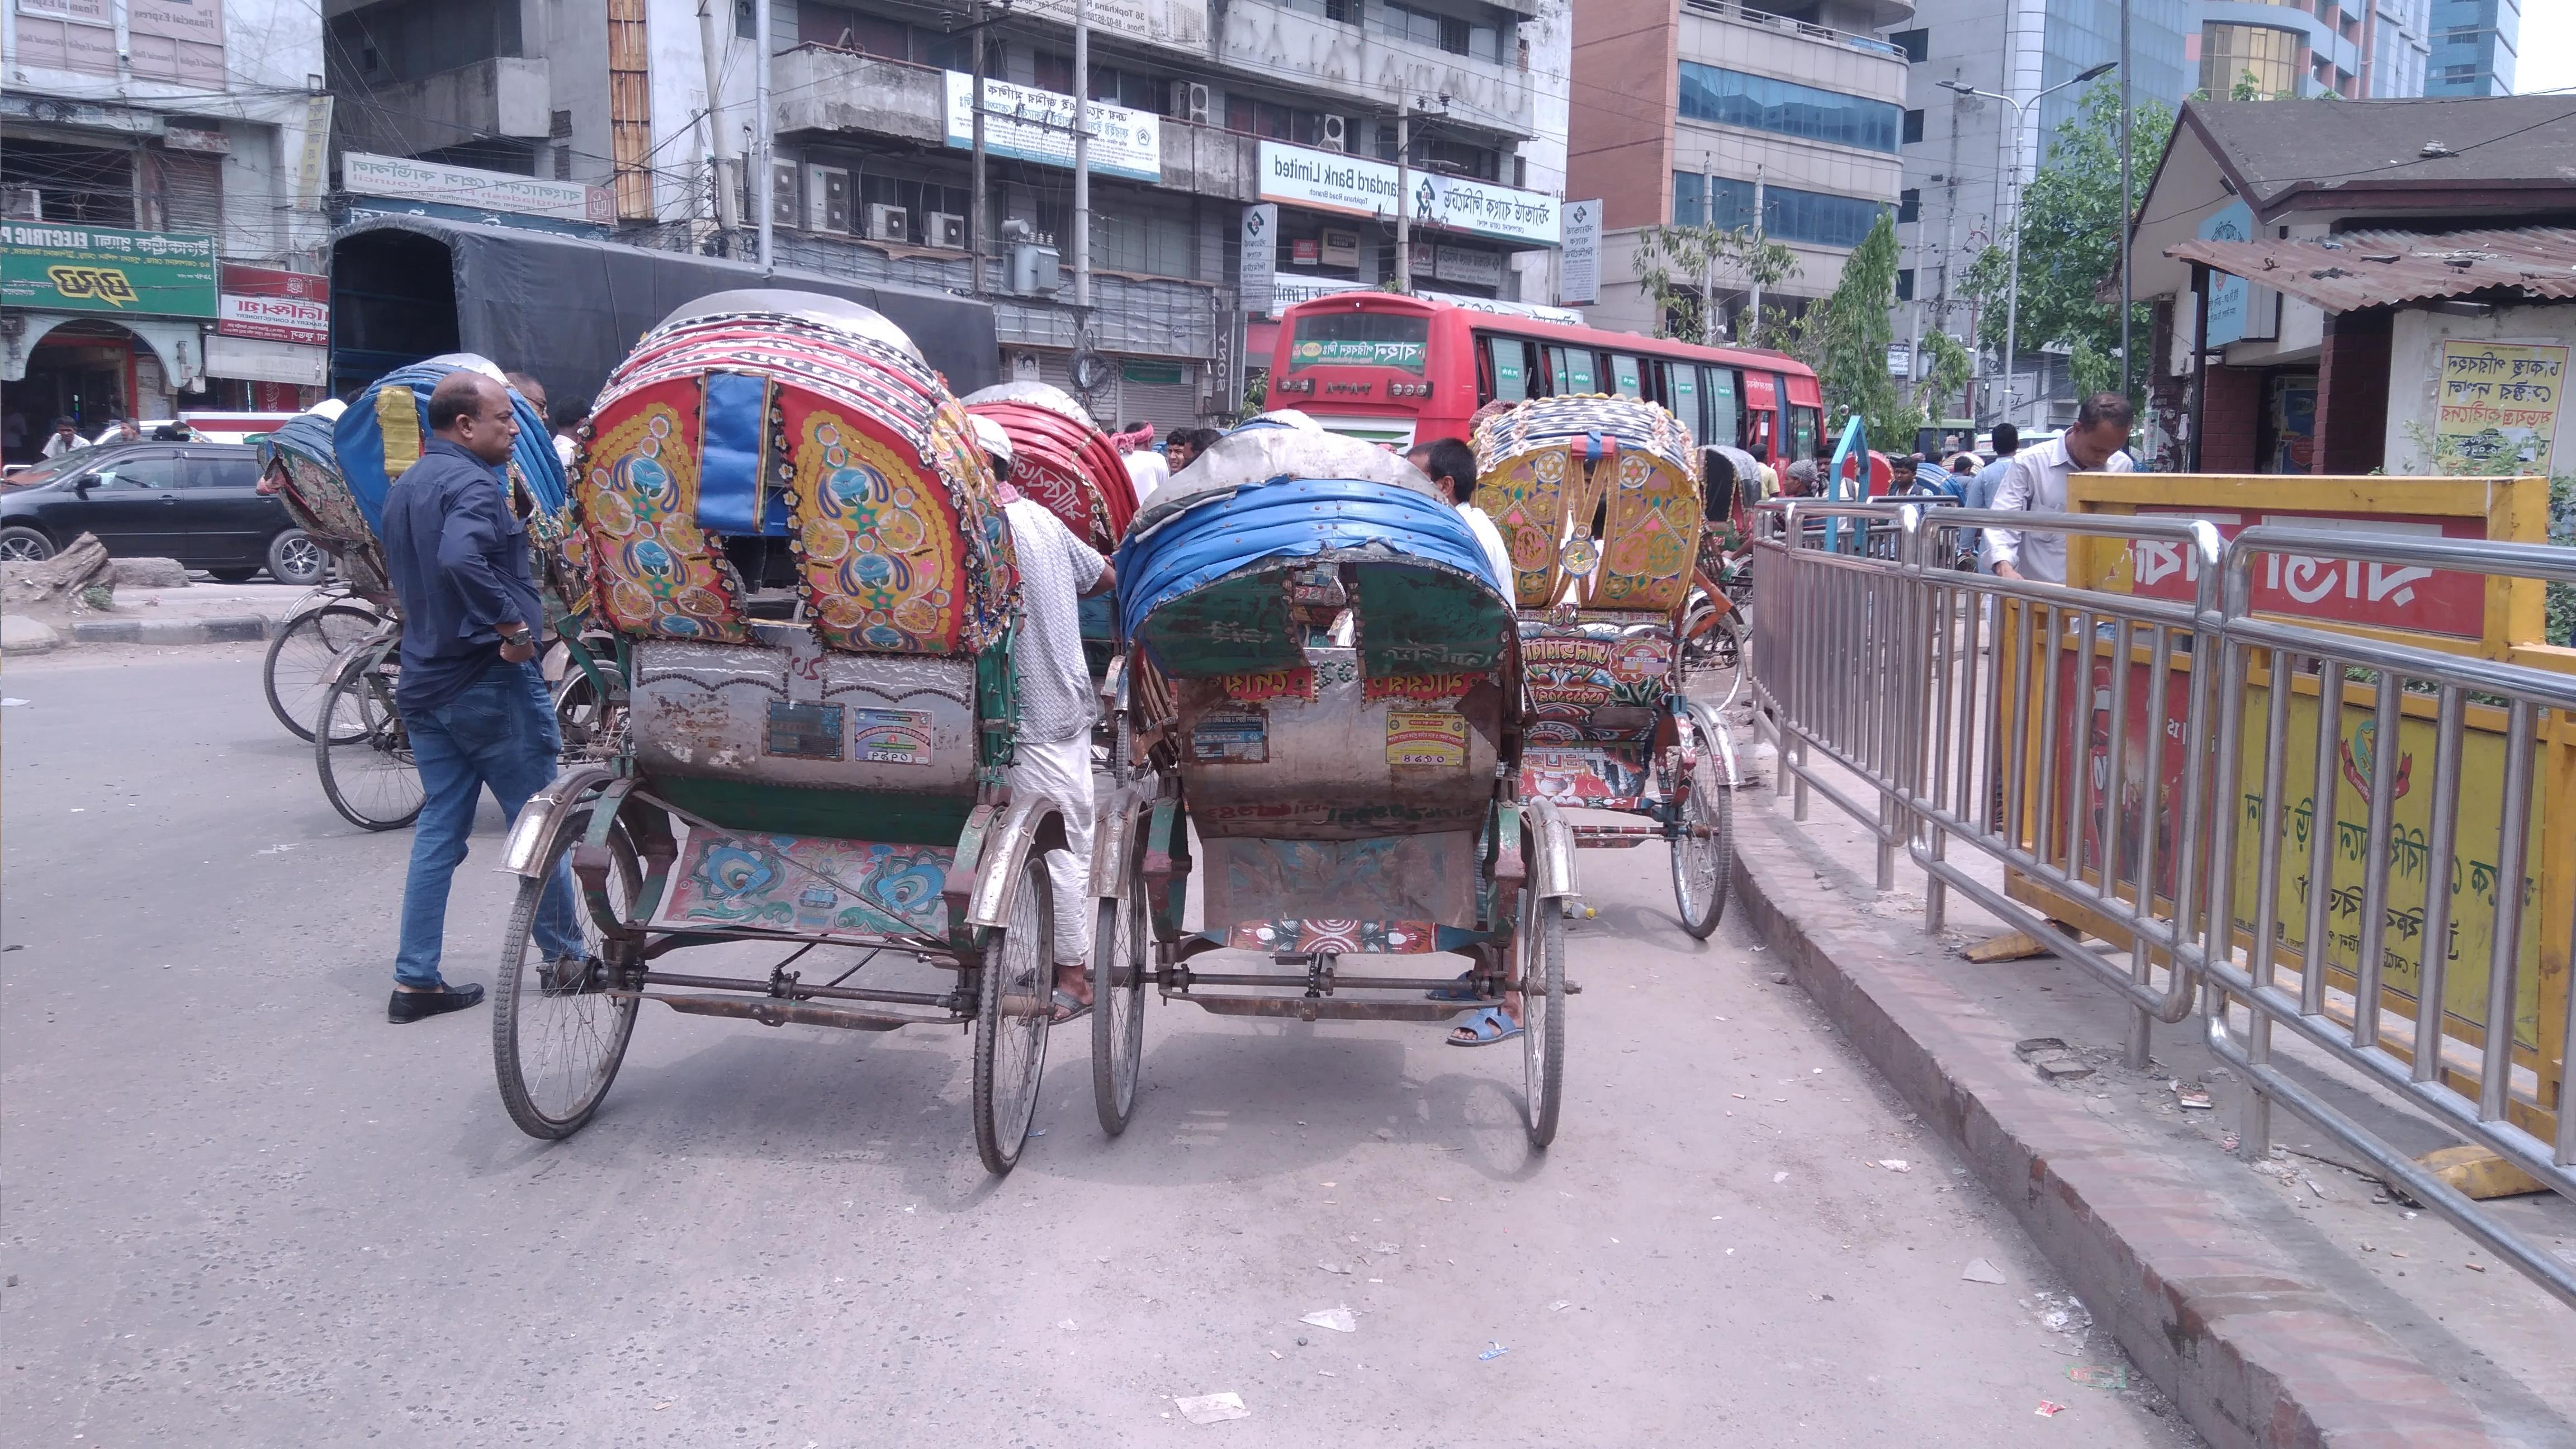Rickshaw: (513, 267, 1065, 1192), (1108, 433, 1585, 1139), (1468, 359, 1773, 970), (345, 317, 596, 816), (223, 354, 387, 770), (925, 336, 1155, 607), (1713, 425, 1792, 663)
